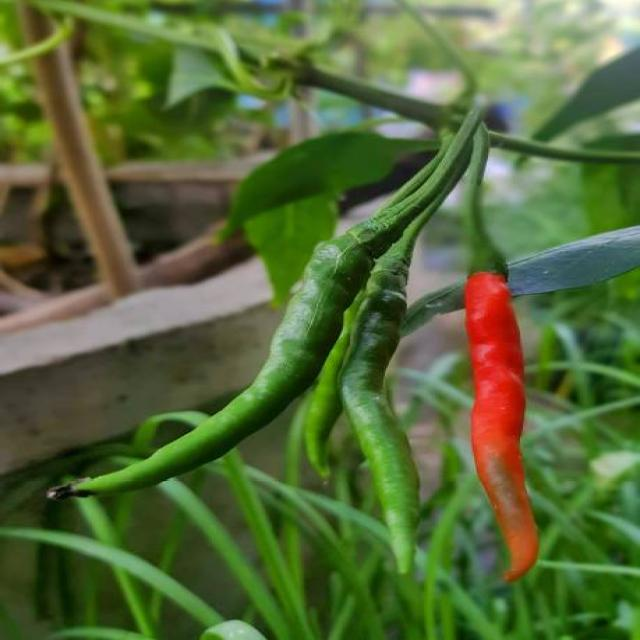Ripe: (464, 272, 537, 580)
Unripe: (74, 237, 376, 494), (340, 224, 418, 573)
